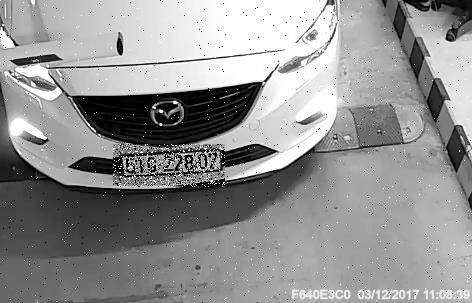License-plate: (114, 146, 226, 189)
